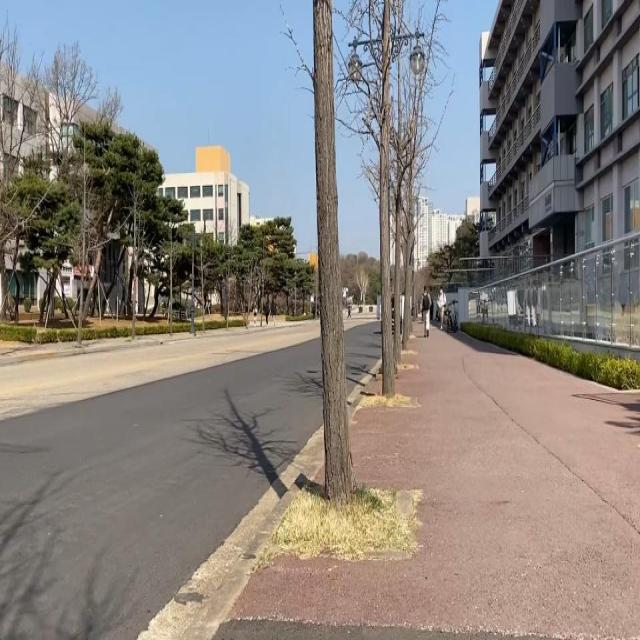sidewalk: (186, 322, 640, 640)
